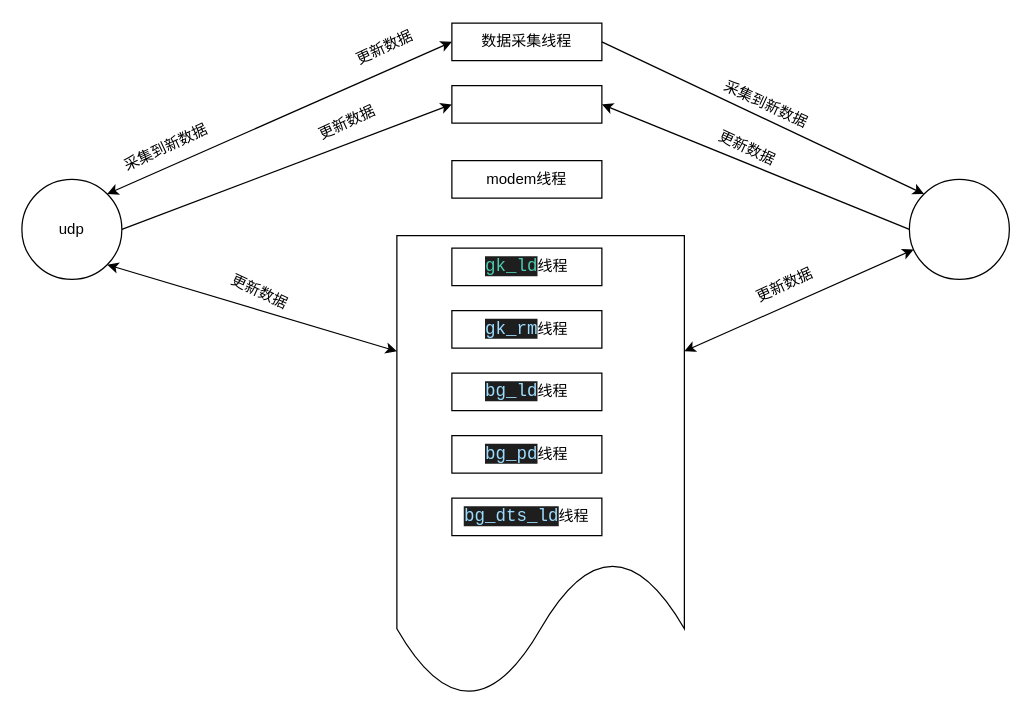
Image size: 1031x721. Some labels were removed from this diagram. Each missing label, with the centre of its shape:
"mcuPort 线程" goes at (x=526, y=103).
"mqtt" goes at (x=958, y=228).
